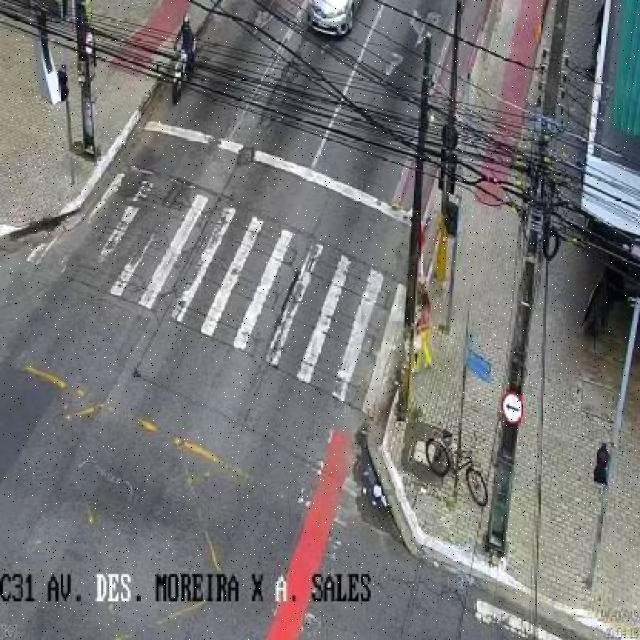Car: (306, 0, 366, 39)
Cycle: (425, 429, 489, 506), (168, 39, 198, 98)
